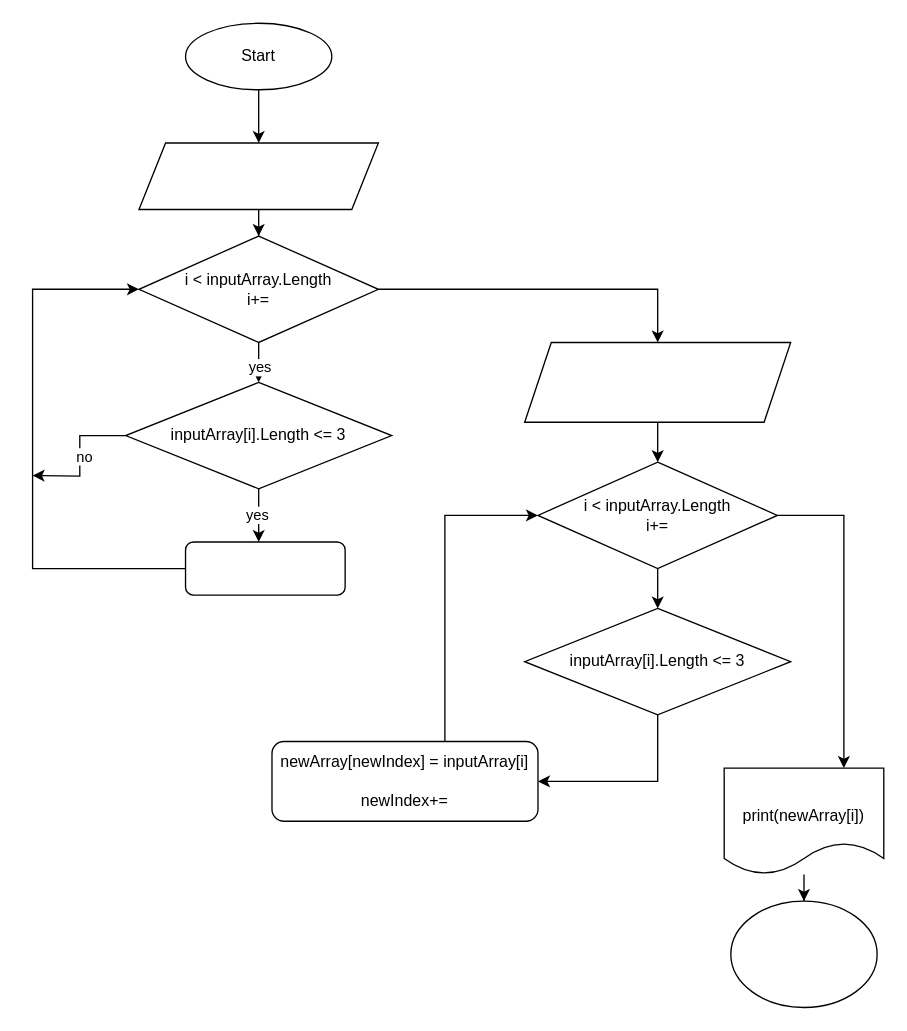
The diagram is 907 pixels wide and 1031 high, and some of its shapes have lost their labels. Each missing label, with the centre of its shape:
count+=: point (264, 568)
End: point (803, 953)
inputArray i = 0 count = 0: point (258, 175)
newArray = new string[count] i = 0 newIndex = 0: point (657, 381)
